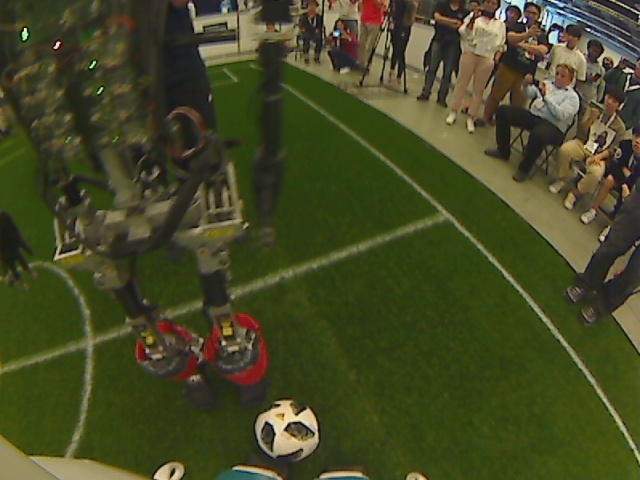ball: (253, 396, 321, 461)
